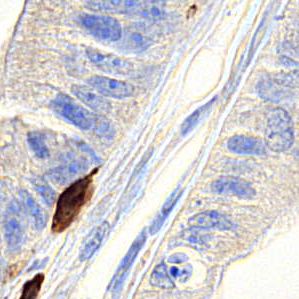Lymphocyte: (53, 176, 92, 228)
